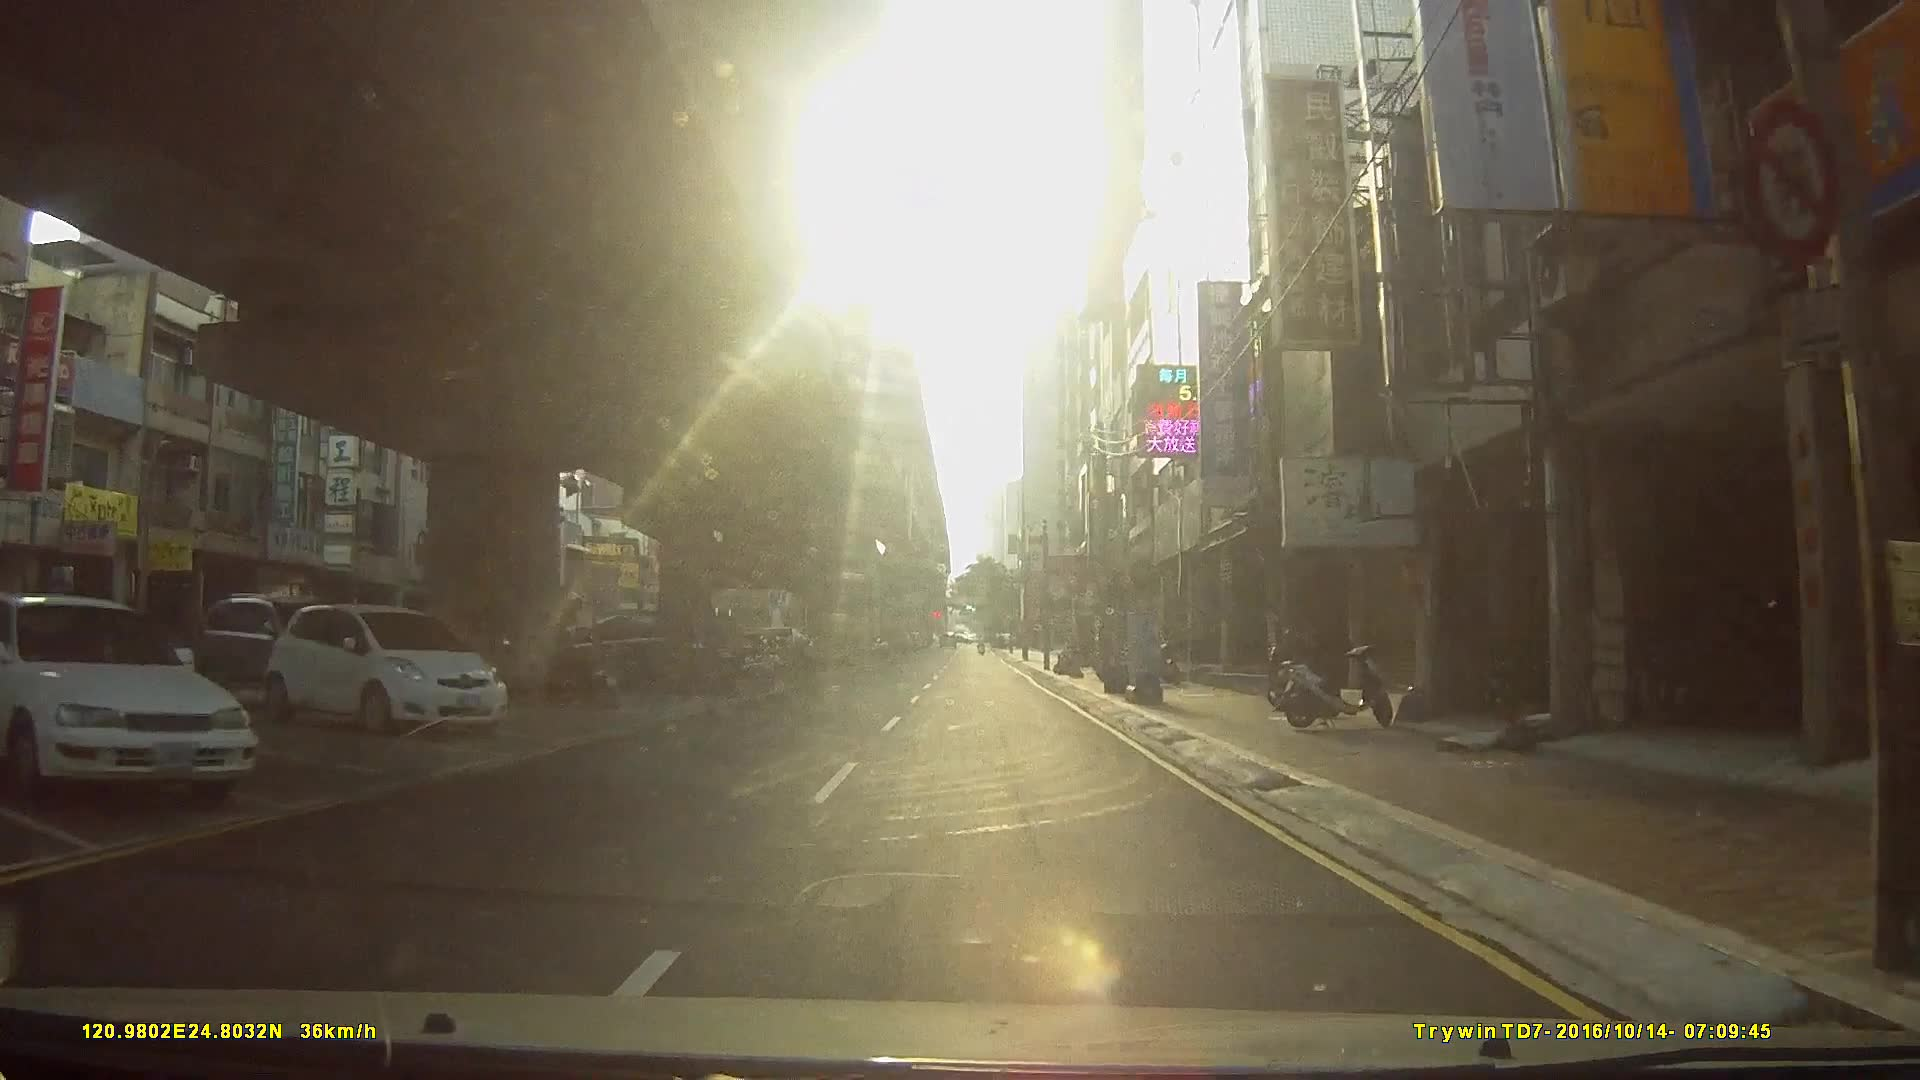vehicle: (0, 592, 258, 810), (262, 599, 510, 741), (190, 593, 340, 698)
